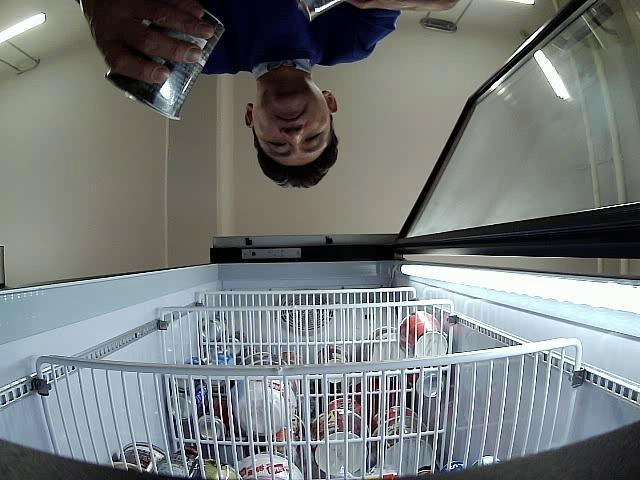08_buldak_S: (104, 11, 226, 120)
